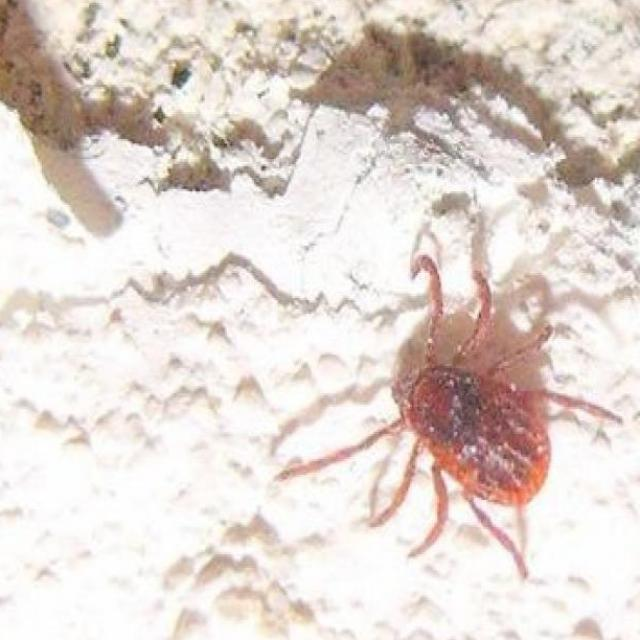Rhipicephalus Sanguineus-F: (274, 221, 624, 579)
